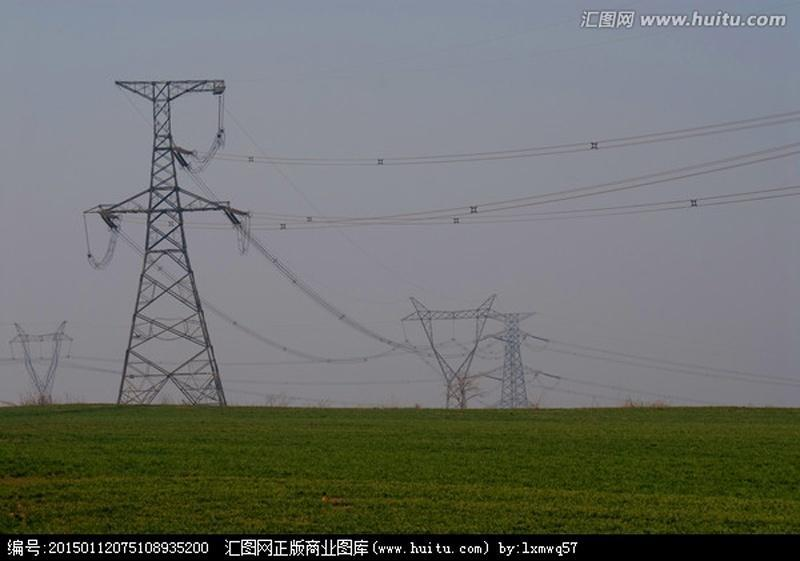power_tower: (82, 78, 254, 404), (399, 294, 502, 410), (478, 311, 562, 409), (8, 318, 79, 406)
